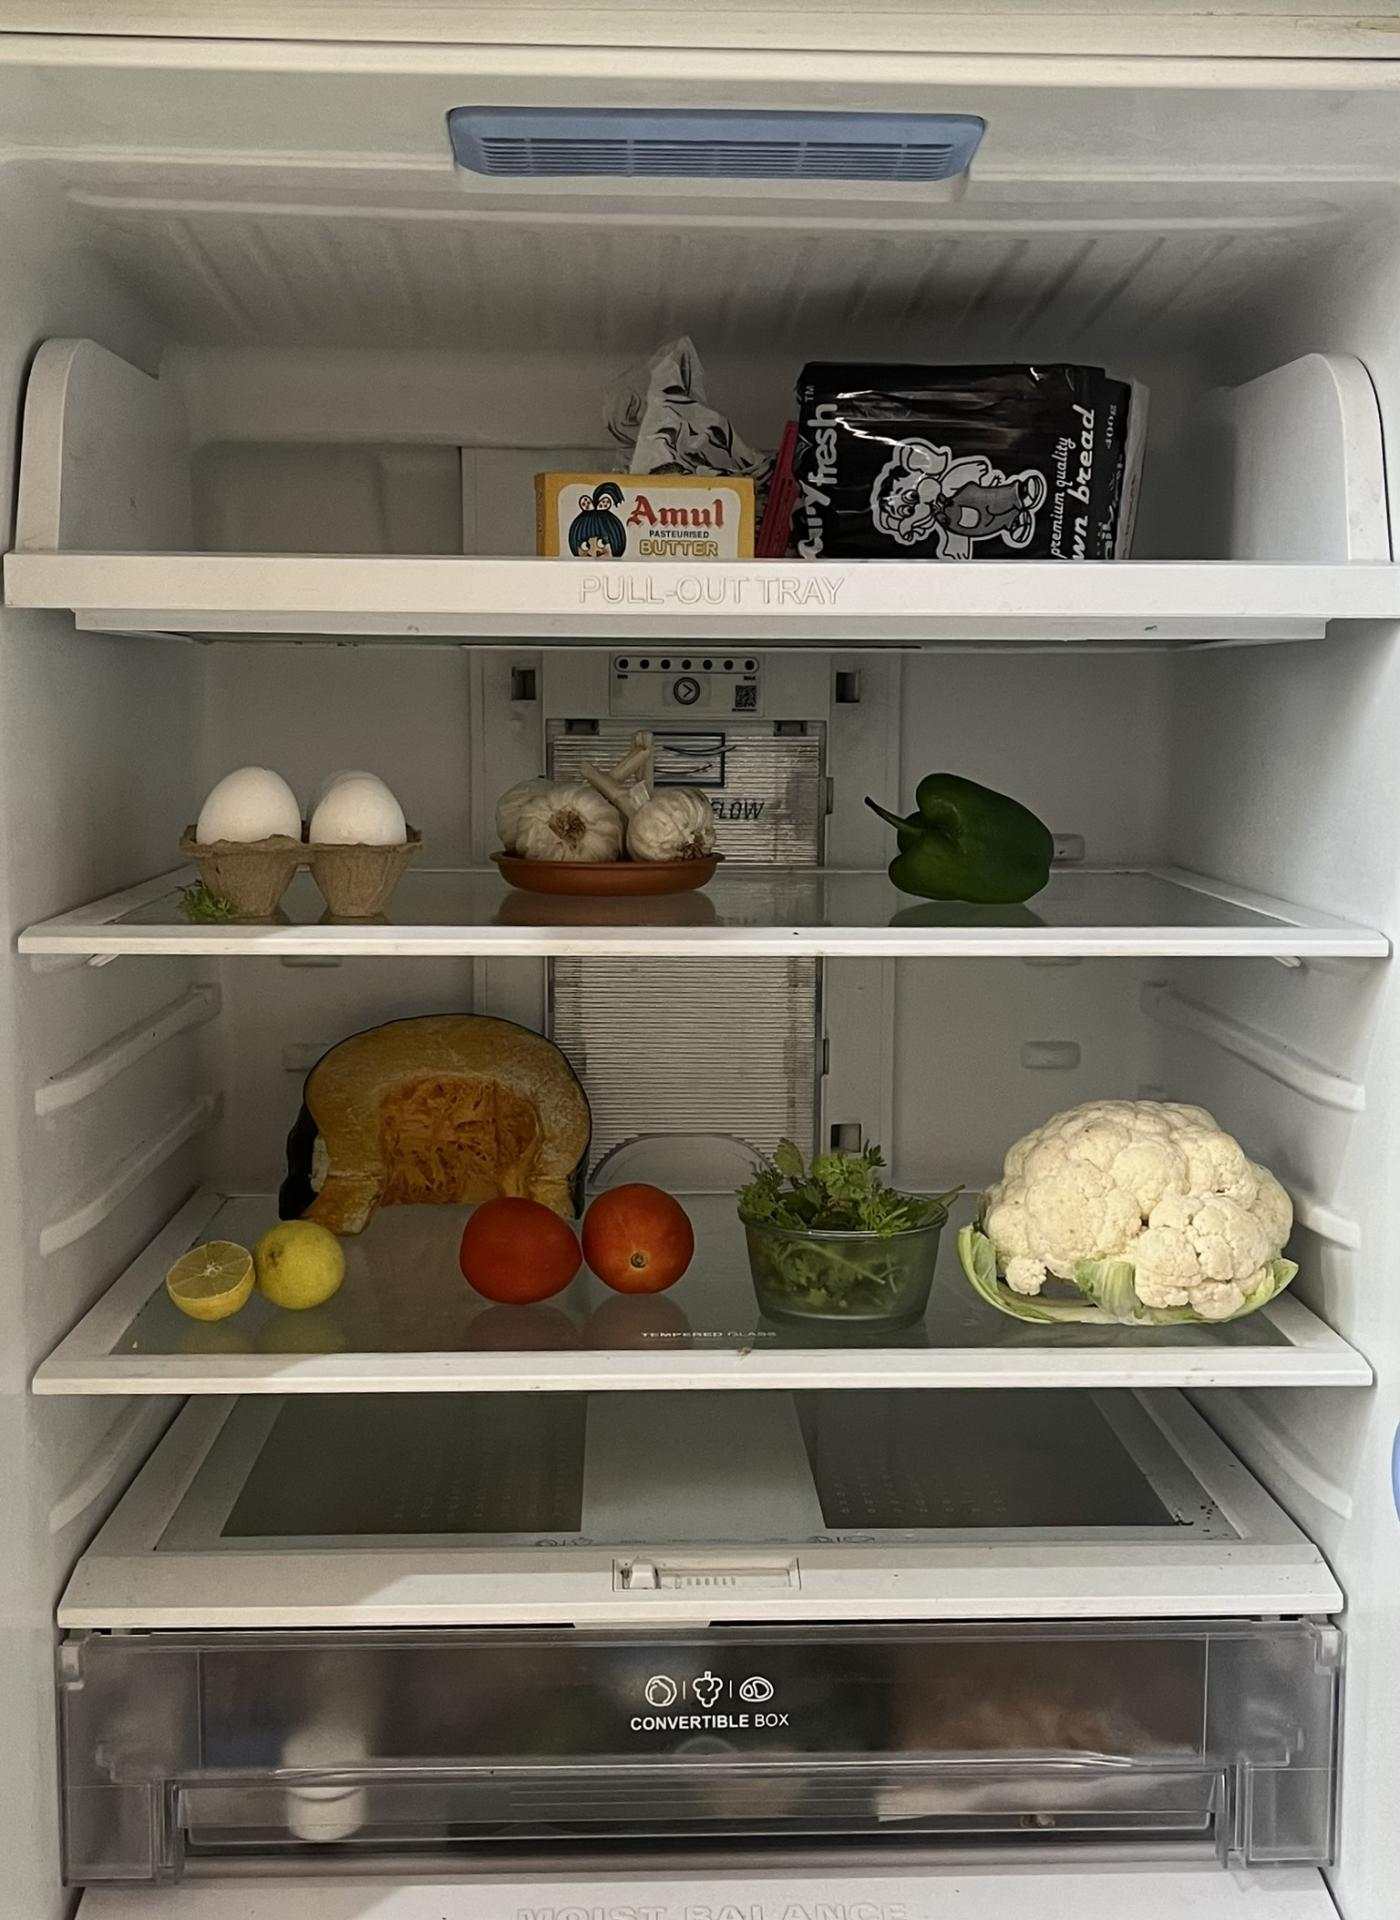bread: (607, 331, 1145, 563)
butter: (541, 468, 753, 559)
capsicum: (866, 775, 1054, 900)
cauliflower: (969, 1097, 1303, 1325)
coriander: (744, 1128, 939, 1313)
egg: (198, 766, 404, 918)
garlic: (489, 738, 705, 860)
lemon: (164, 1225, 349, 1316)
pumpkin: (285, 1003, 589, 1231)
tomato: (465, 1181, 690, 1300)
